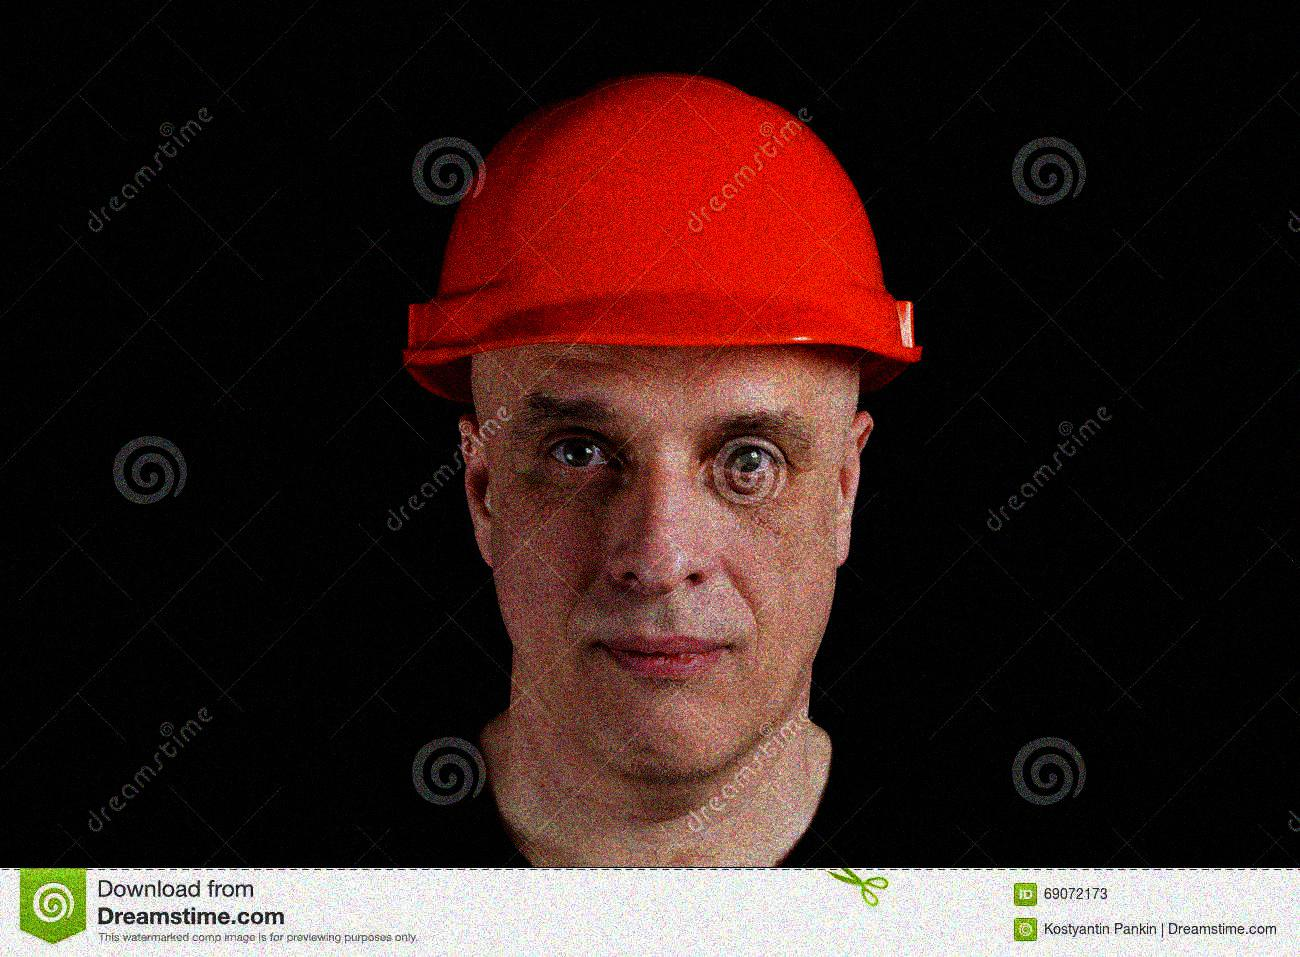helmet: (398, 72, 918, 781)
